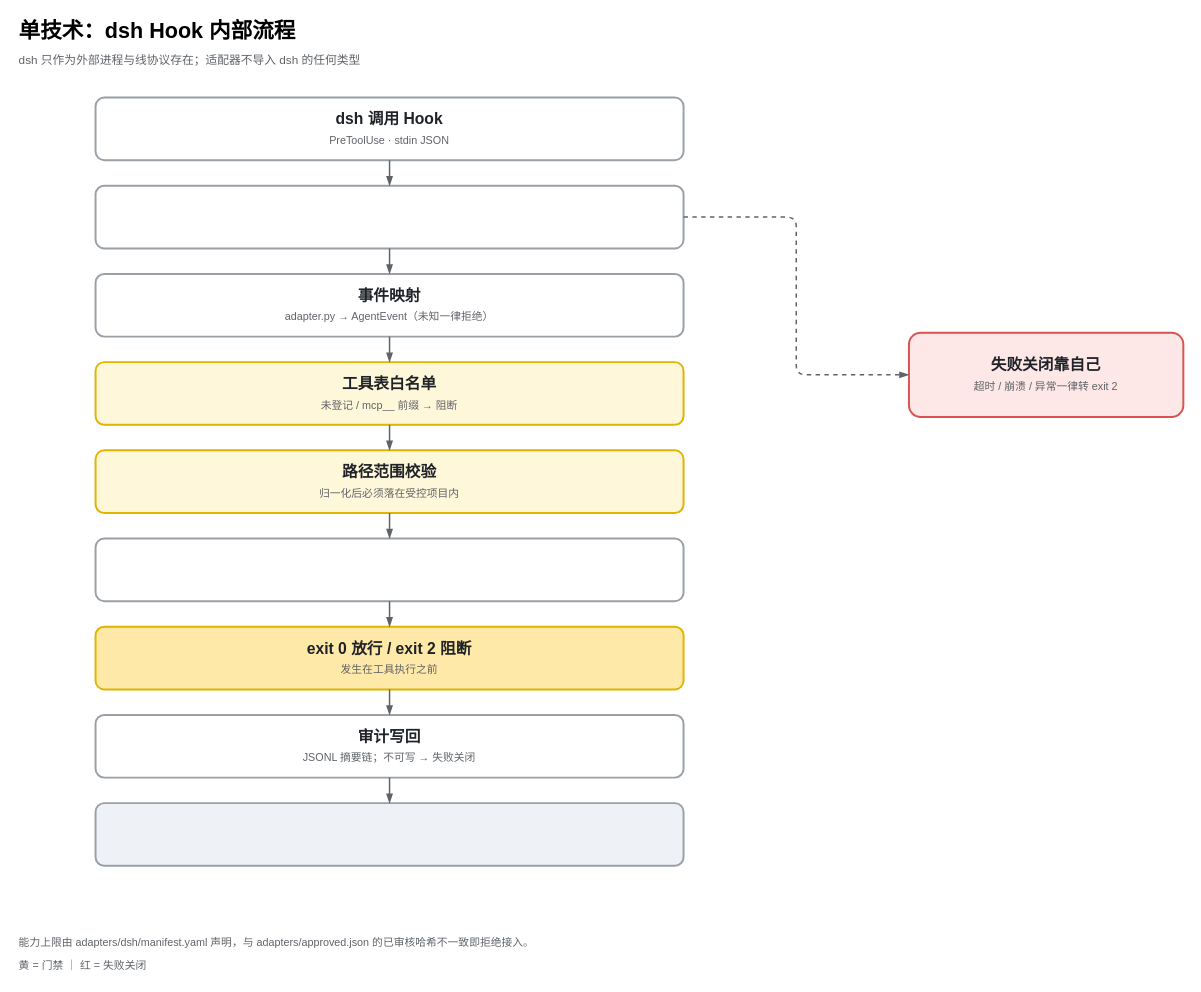
The diagram is 1201 pixels wide and 992 high, and some of its shapes have lost their labels. Here are the shapes that lost their labels. From the top down, the centre of each, then its label:
At pixel 389 216: "接线自检 内部预算 5000ms < hooks.json 超时 30s".
At pixel 389 569: "平台判定 policy.engine.evaluate（+ Phase 5 证据）".
At pixel 389 834: "PostToolUse 只做 post-check，不再调 callback".
